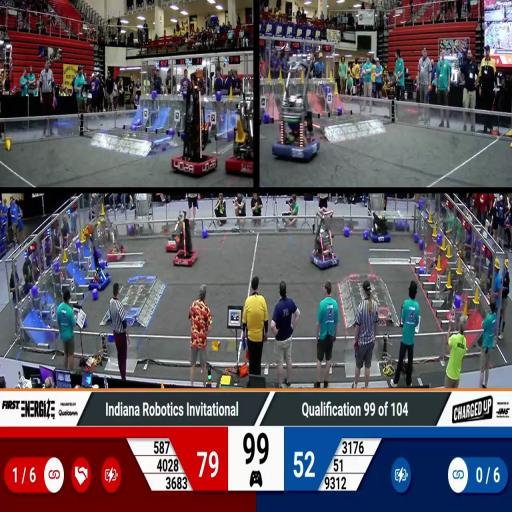robot: (270, 50, 322, 162), (172, 80, 218, 173), (226, 94, 253, 176), (310, 208, 340, 270), (172, 216, 198, 268), (88, 243, 111, 294), (104, 228, 128, 262), (370, 210, 392, 246), (164, 214, 184, 252)
